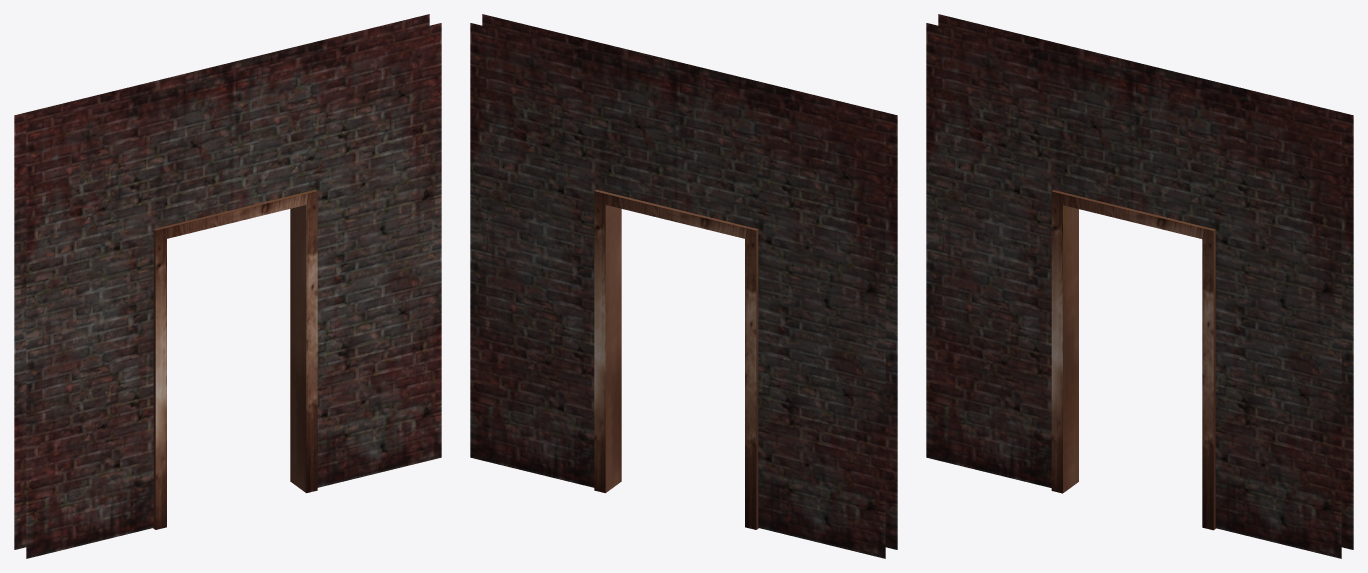
File: wall_brick_doorway_2.obj
3 renders of one model, left to right at view 1: azimuth 30°, elevation 25°; view 2: azimuth 150°, elevation 25°; view 3: azimuth 330°, elevation 25°, orthographic.
Visible parts, largest first — view 1: Doorframe; view 2: Doorframe; view 3: Doorframe.
Boxes of the visible parts, box(x1,y1,x2,y2) form: Doorframe: box(14, 14, 441, 558); Doorframe: box(470, 14, 897, 558); Doorframe: box(926, 14, 1353, 558).
Size of the model in its own units: 3 by 3 by 0.2.
2 materials, 2 textured.
